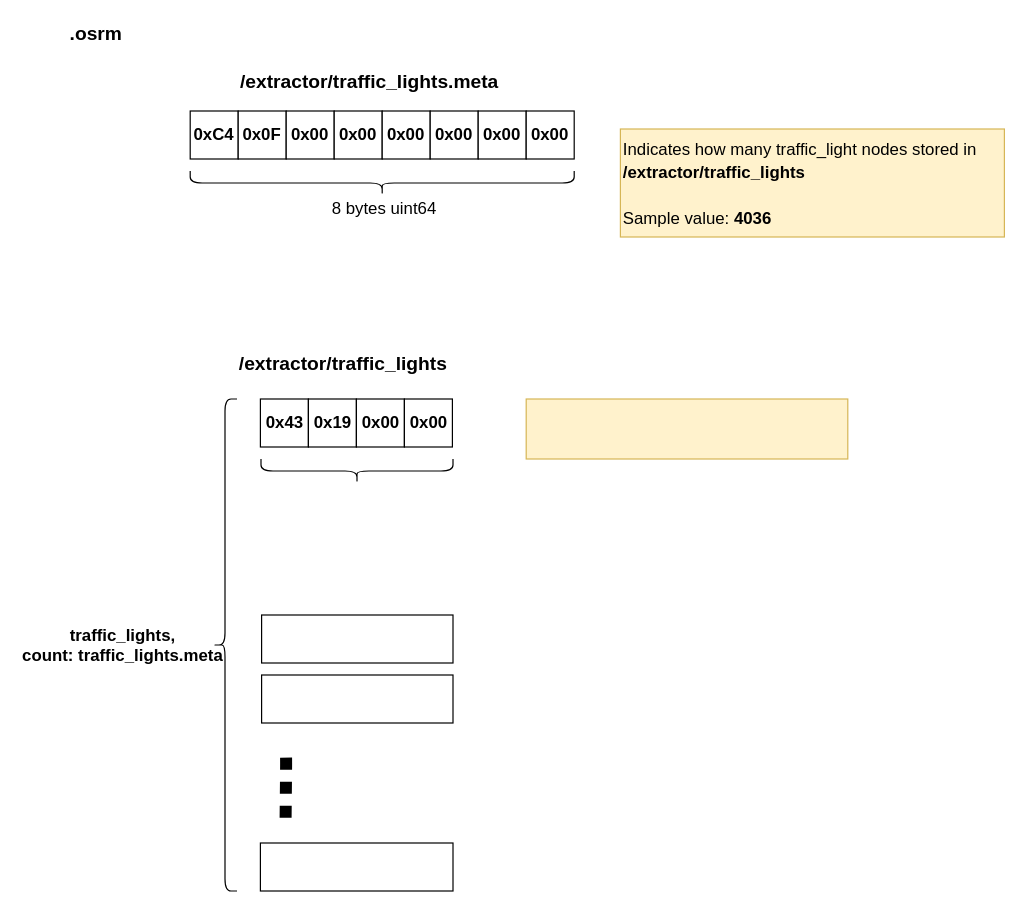
Some shapes in this 1025 by 912 pixel diagram are drawn without their labels. The centre of each missing label's shape, as x and y in pixels:
4 bytes uint32 Internal NodeID: the point at 356,470
Sample value: 6467: the point at 686,428
